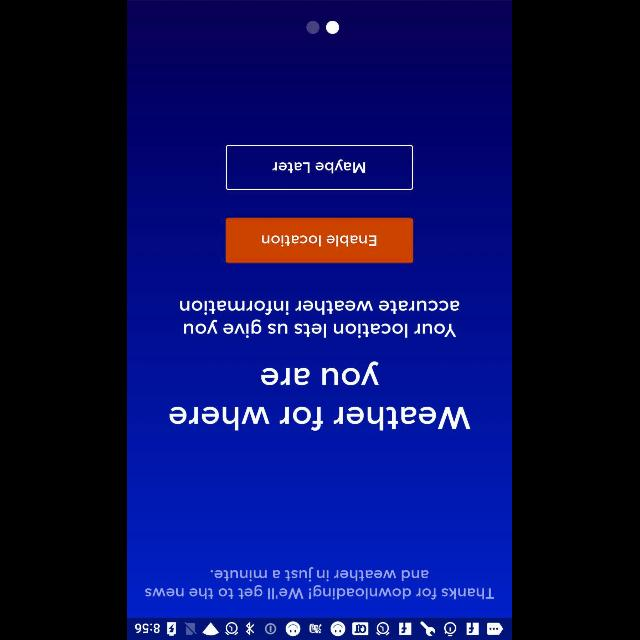pageindicator: (306, 20, 339, 34)
text: (170, 361, 472, 431), (146, 566, 494, 600), (180, 300, 460, 338)
textbutton: (226, 144, 414, 190), (226, 218, 414, 262)
uppertaskbar: (128, 617, 512, 639)
